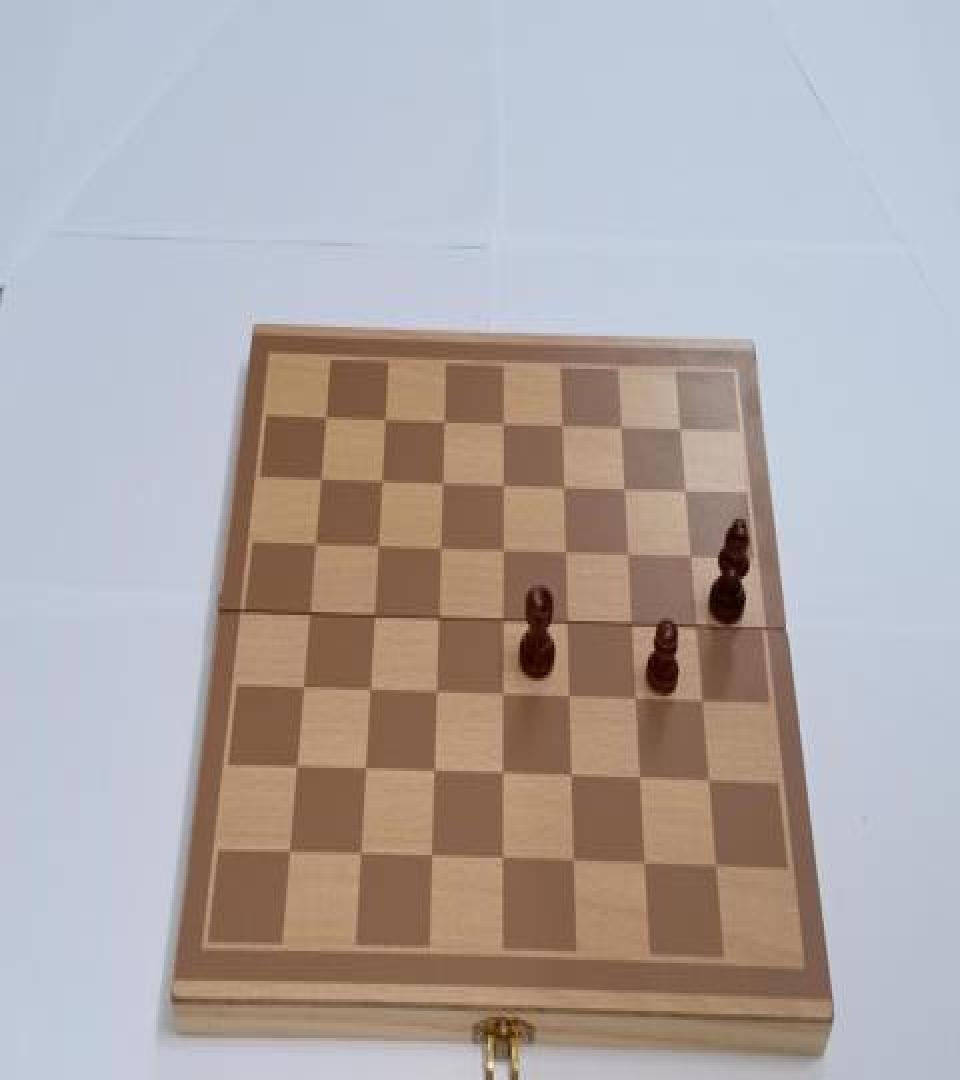xcorner: (435, 406, 453, 434), (426, 760, 444, 788), (495, 472, 513, 500), (679, 478, 697, 506), (315, 404, 333, 431), (310, 465, 328, 492), (305, 532, 323, 559), (293, 676, 311, 703), (287, 756, 305, 783), (375, 405, 393, 432), (372, 468, 390, 495), (368, 534, 386, 561), (365, 604, 383, 631), (357, 759, 375, 786), (353, 843, 371, 870), (433, 470, 451, 497), (430, 606, 448, 633), (428, 681, 446, 708), (424, 844, 442, 871), (495, 538, 513, 565), (495, 609, 513, 636), (496, 683, 514, 710), (496, 762, 514, 789), (554, 411, 572, 438), (556, 474, 574, 501), (558, 540, 576, 567), (560, 610, 578, 637), (565, 765, 583, 792), (568, 849, 586, 876), (614, 414, 632, 441), (622, 543, 640, 570), (626, 612, 644, 639), (630, 687, 648, 714), (634, 766, 652, 793), (639, 852, 657, 879), (674, 415, 692, 442), (685, 545, 703, 572), (690, 615, 708, 642), (697, 690, 715, 717), (299, 602, 317, 628), (281, 842, 299, 868), (361, 680, 379, 706), (432, 536, 450, 562), (495, 410, 513, 436), (496, 848, 514, 874), (563, 686, 581, 712), (618, 476, 636, 502), (703, 770, 721, 796), (710, 854, 728, 880)
